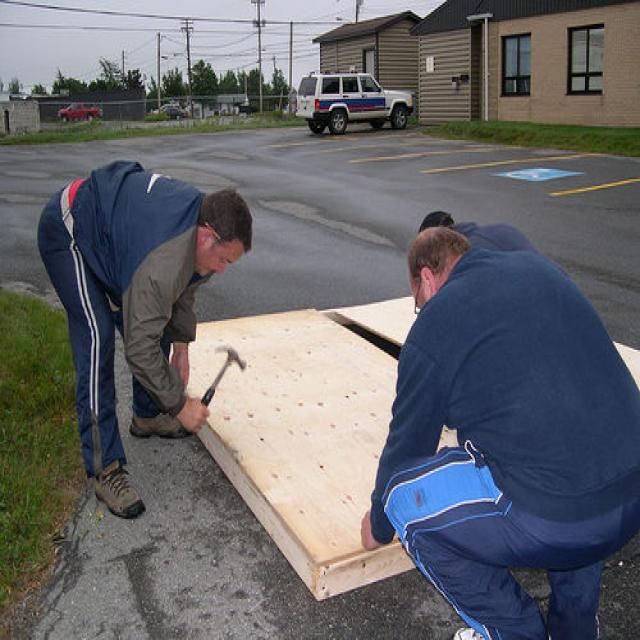hammer: (188, 334, 245, 427)
